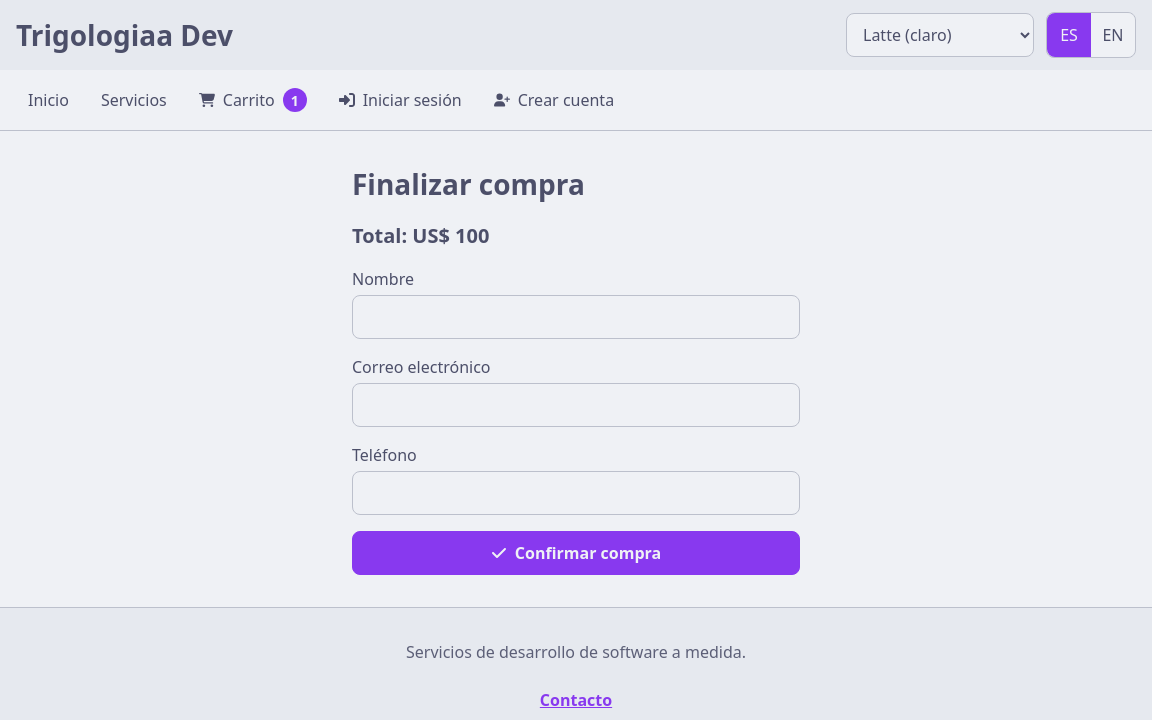
Test: CheckoutPage › keeps the cart and shows an alert when the order cannot be saved
Step 1. Type "Ana" into the field labelled "Nombre" → (576, 317), box [352, 295, 800, 339]
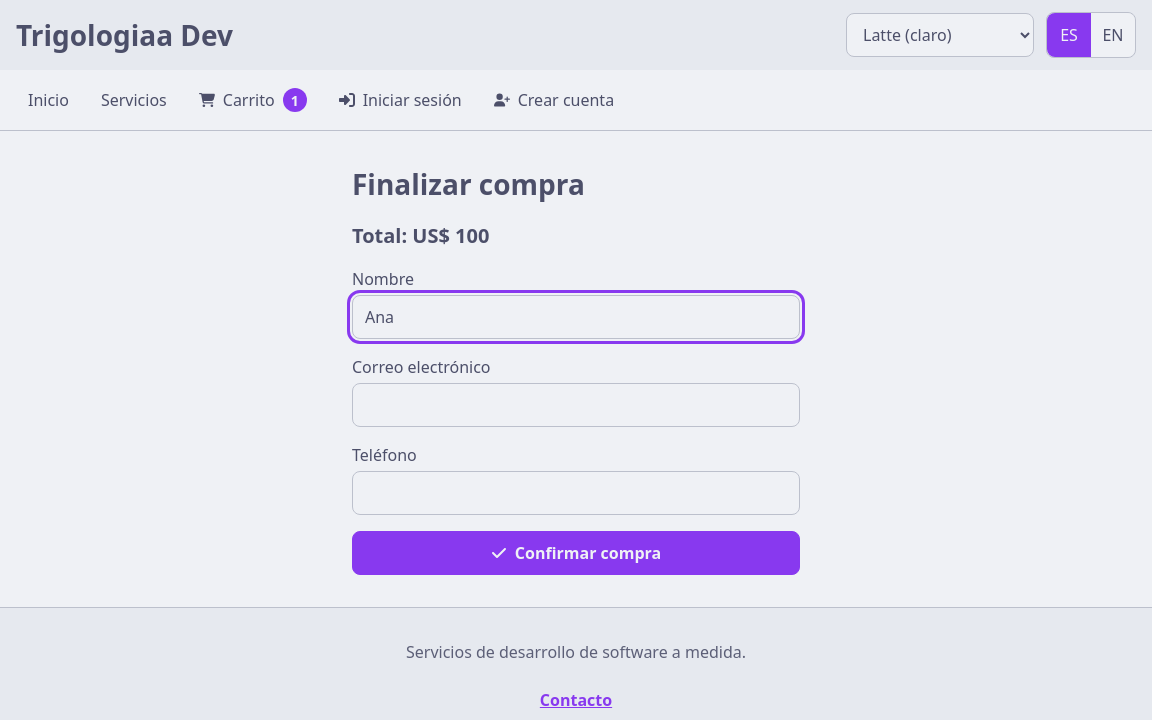
Step 2. Type "ana@example.com" into the field labelled "Correo electrónico" → (576, 405), box [352, 383, 800, 427]
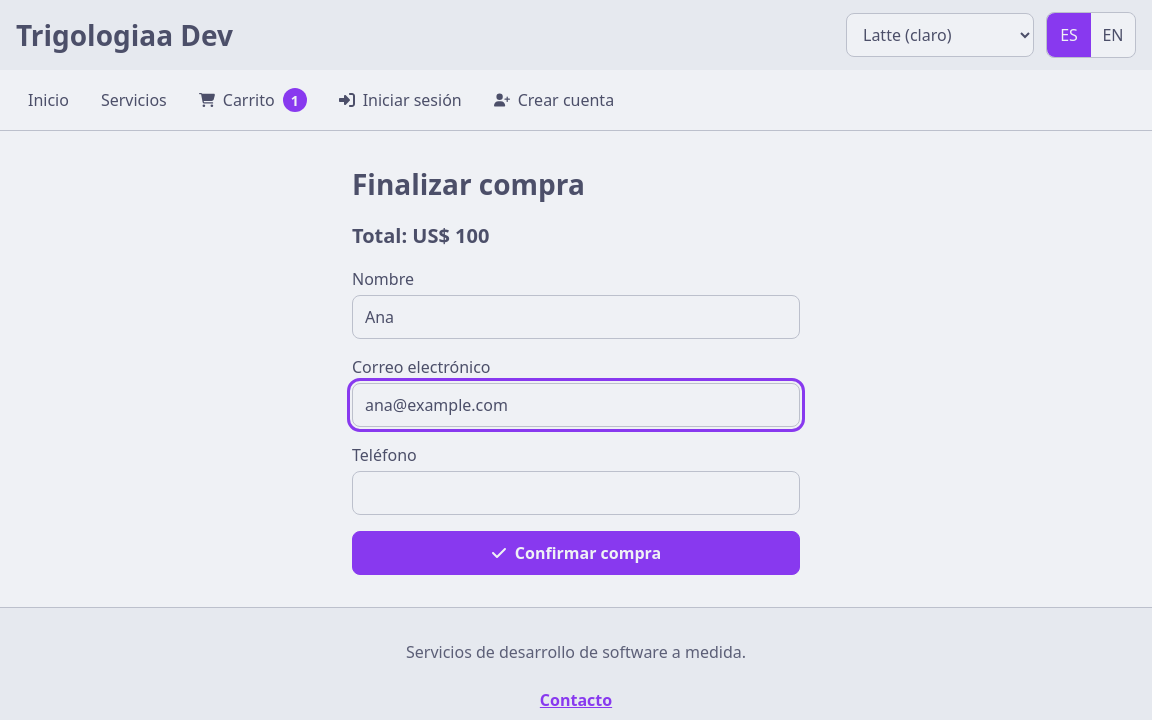
Step 3. Type "+54 11 5555 5555" into the field labelled "Teléfono" → (576, 493), box [352, 471, 800, 515]
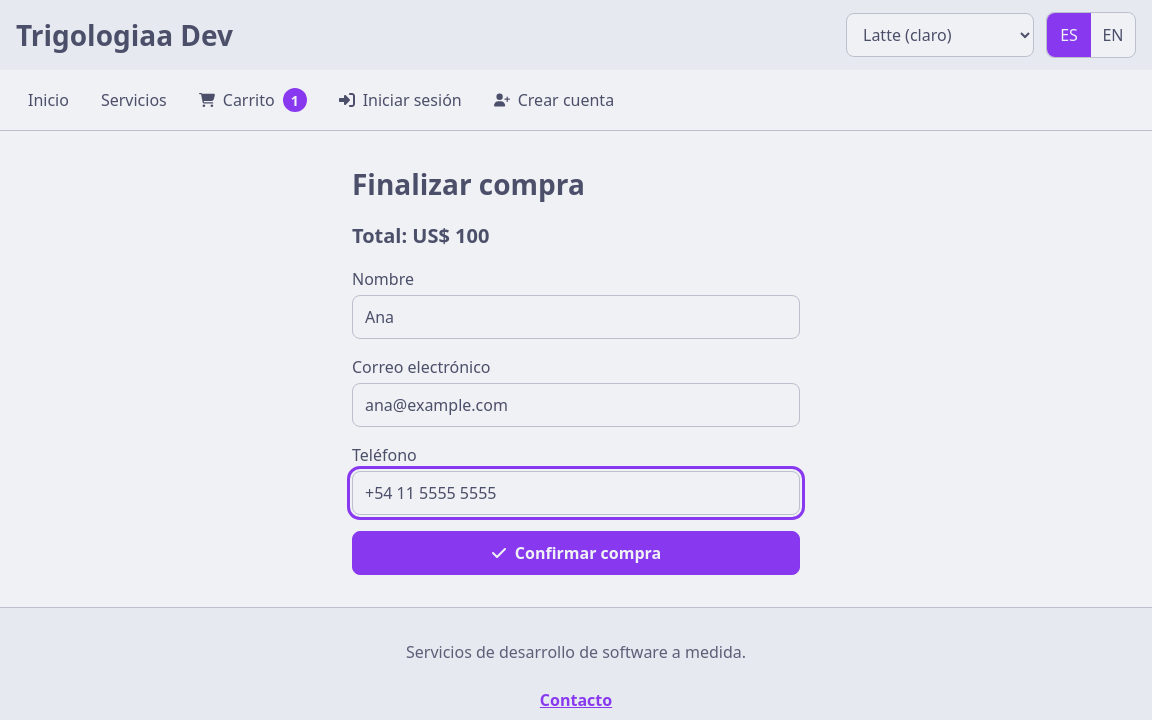
Step 4. Click the button "Confirmar compra" → (576, 553), box [352, 531, 800, 575]
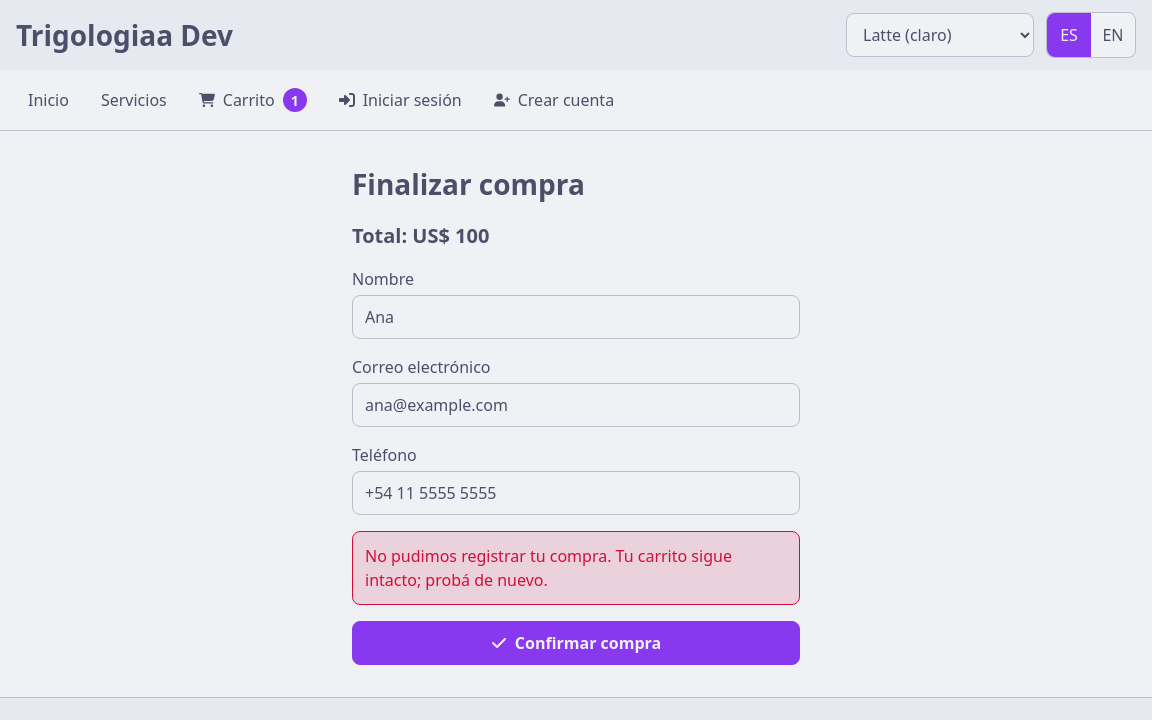
Check: the link with aria-label "Carrito, 1 artículo" is shown, box [199, 88, 307, 112]
Check: the message shows "No pudimos registrar tu compra", box [365, 545, 732, 591]
